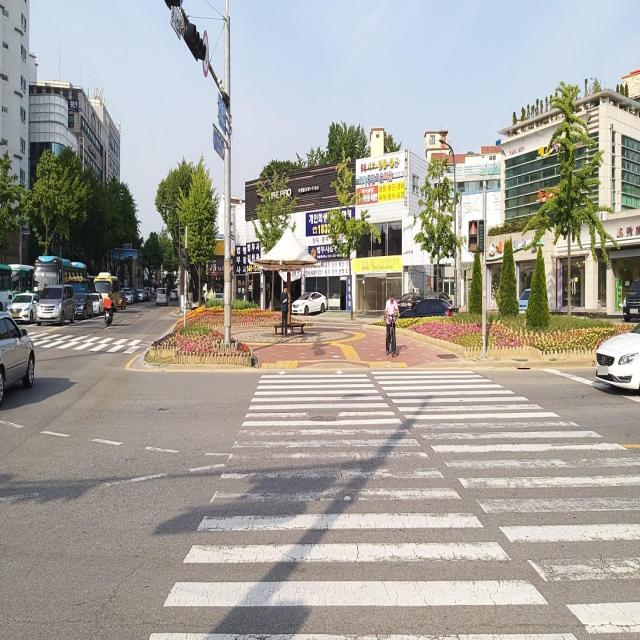빨간불: (468, 218, 485, 253)
횡단보도: (146, 363, 640, 639), (19, 332, 154, 350)
